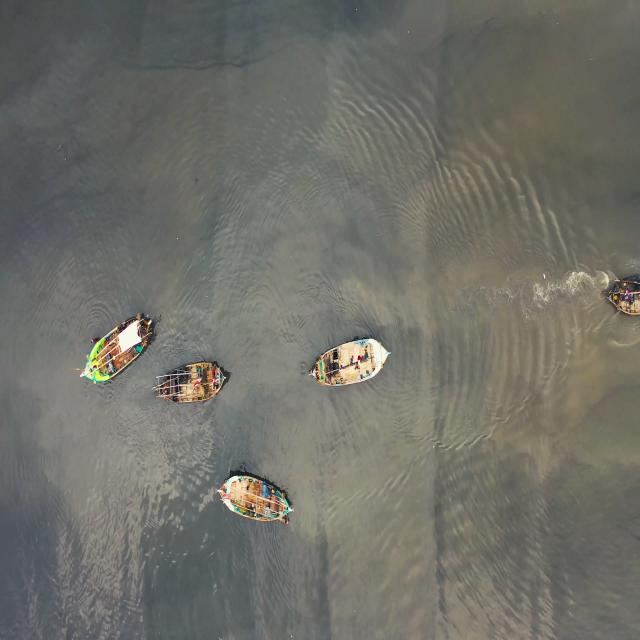ship: (80, 306, 156, 385), (216, 469, 292, 527), (309, 337, 392, 383), (156, 358, 232, 404), (605, 274, 636, 320)
